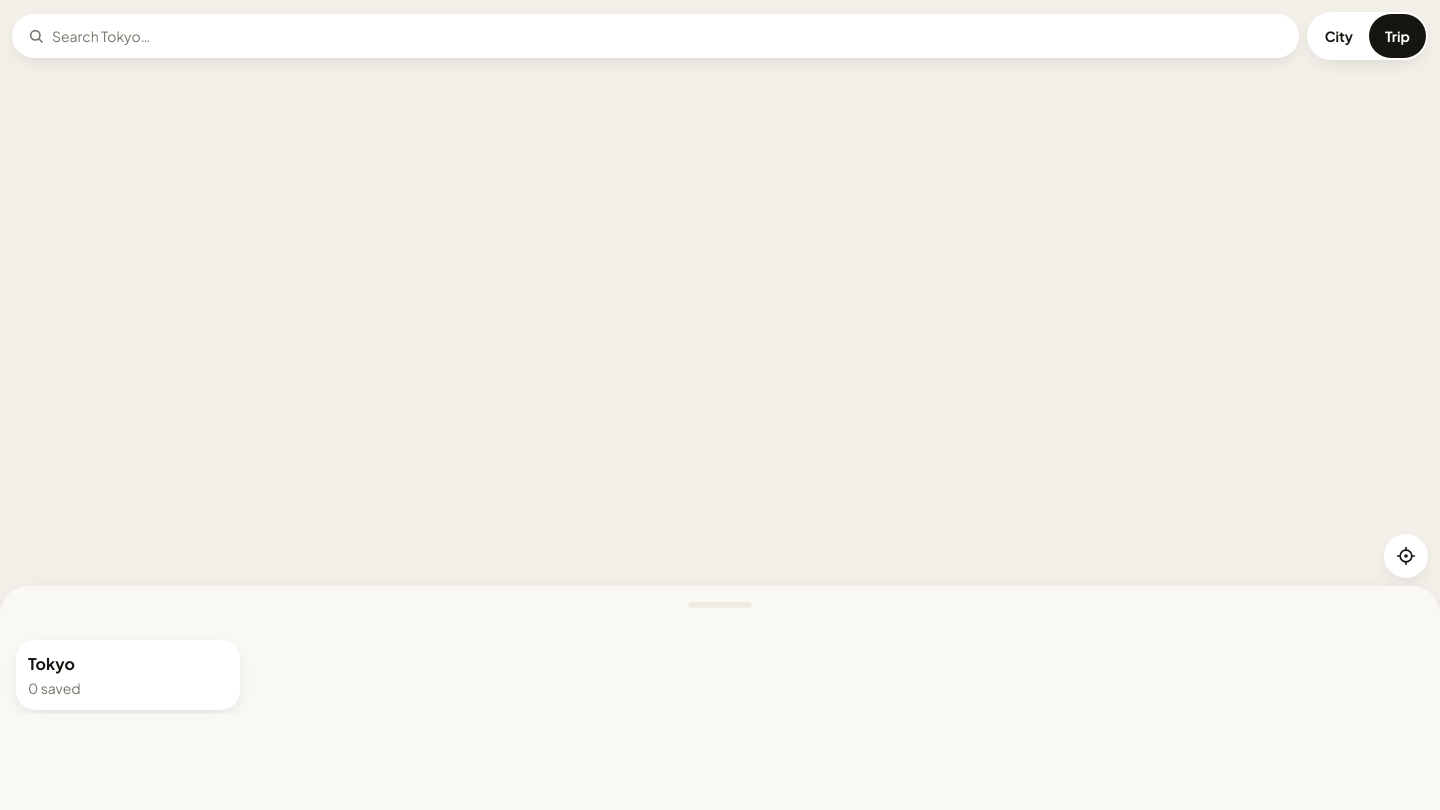
Test: tapping a card › selects it the same way a pin does, so the two stay in step
What coordinates should you click on to do the following:
click the button "City"
I would click on:
 (1339, 36)
Its box is [1309,14,1369,58].
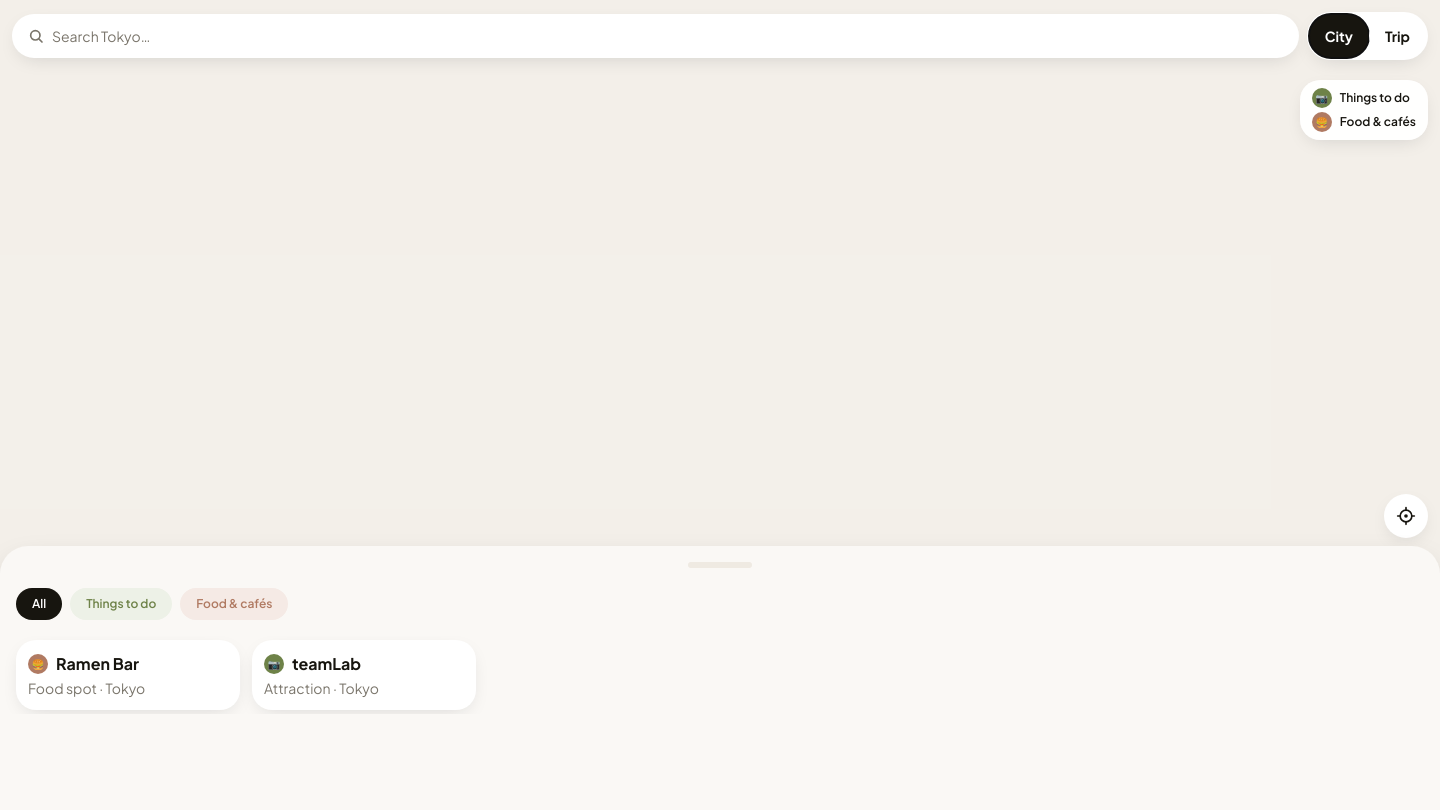
What coordinates should you click on to do the following:
click the button "📷 teamLab Attraction · Tokyo"
I would click on:
 (364, 675)
Its box is [264,652,464,698].
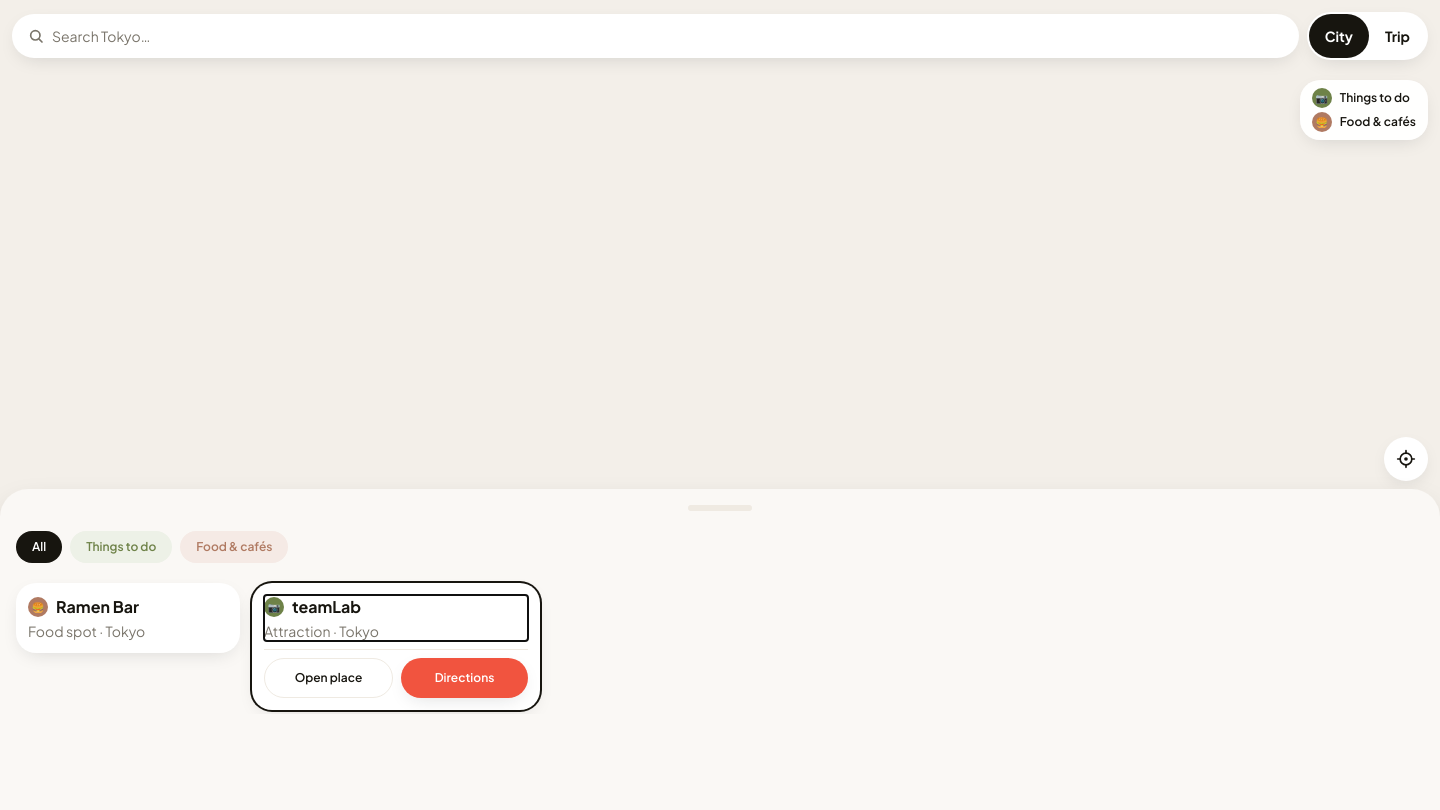
Check: the link "Open place" is shown, box [264,658,393,698]
